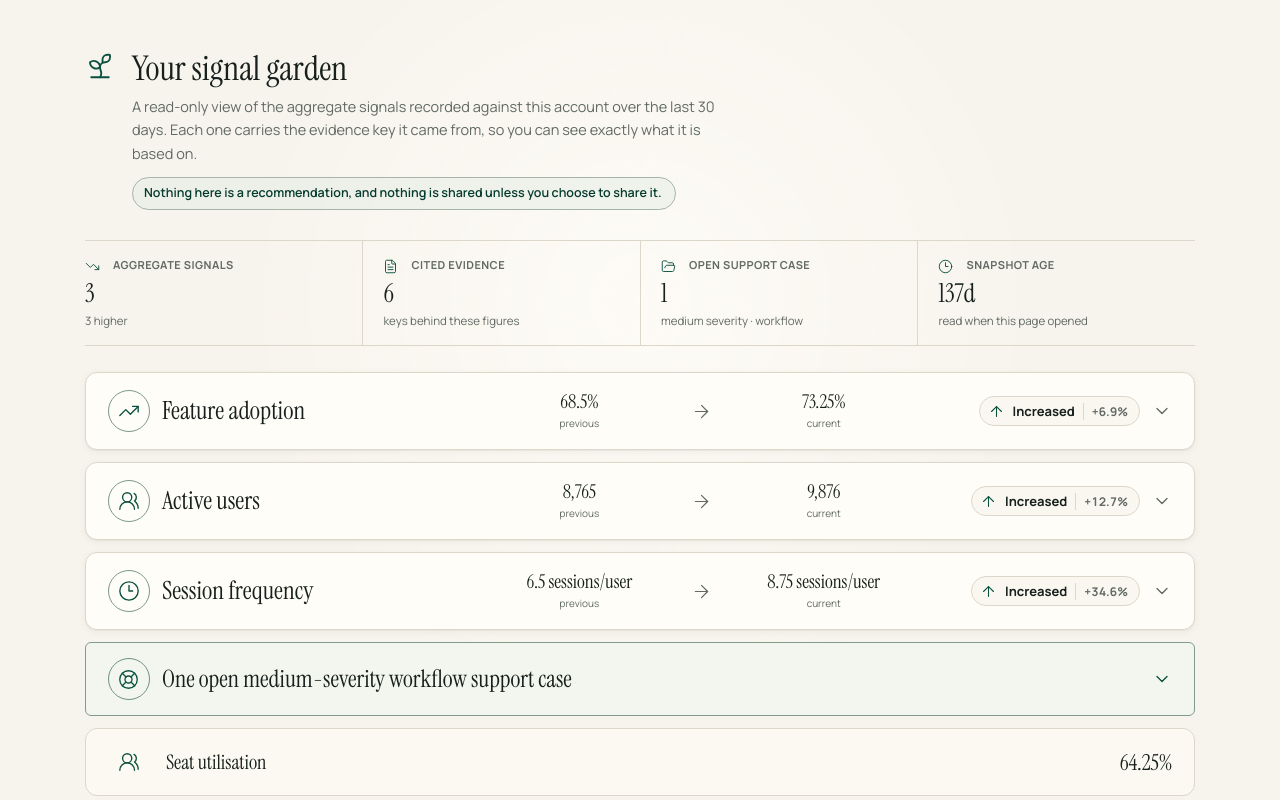
Test: Signal Garden canvas › reveals cited support facts without inventing a summary or cause
Click the button "One open medium-severity workflow support case" at coordinates (129, 679), box [86,643,1194,715]
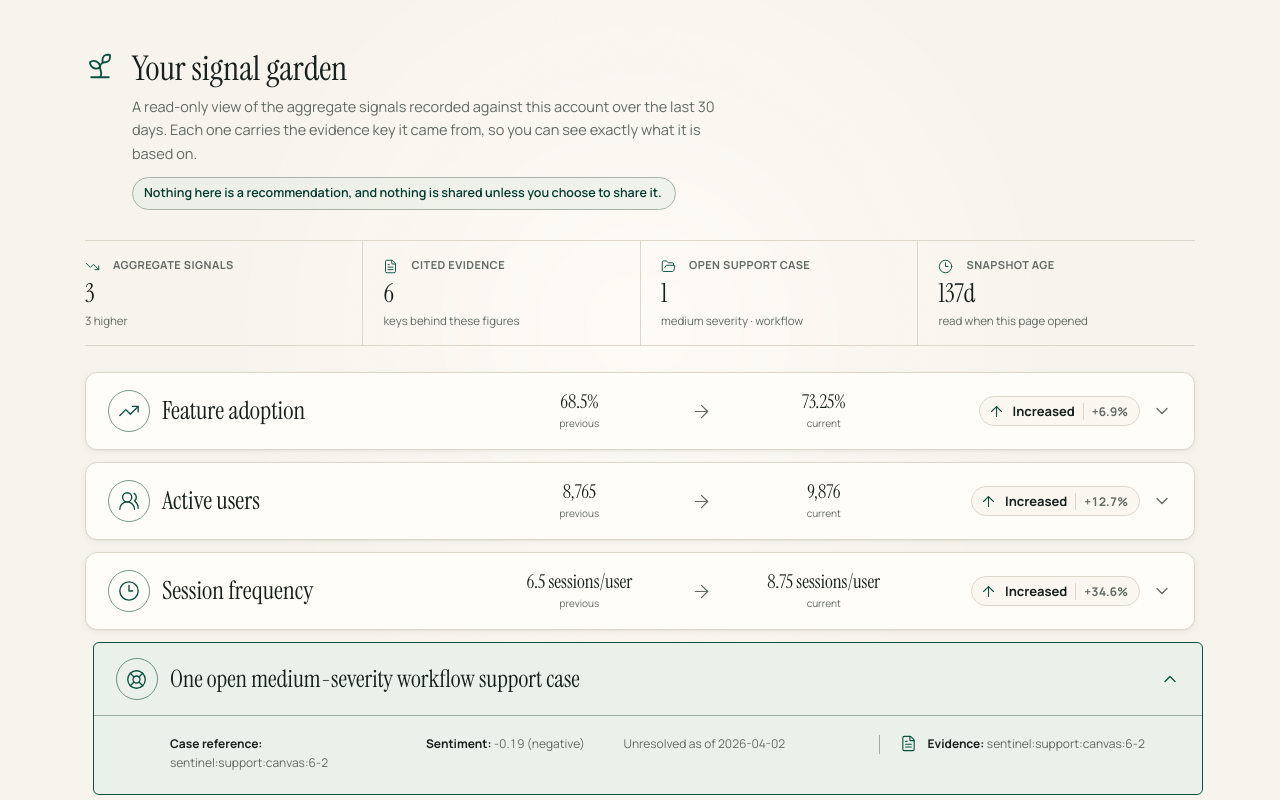
expect the text "sentinel:support:canvas:6-2" is shown 2 times: met, box [170,754,328,771]; [987,735,1145,752]
expect the text "-0.19" is shown: met, box [494,735,524,752]
expect the text "Unresolved as of 2026-04-02" is shown: met, box [624,735,785,752]
